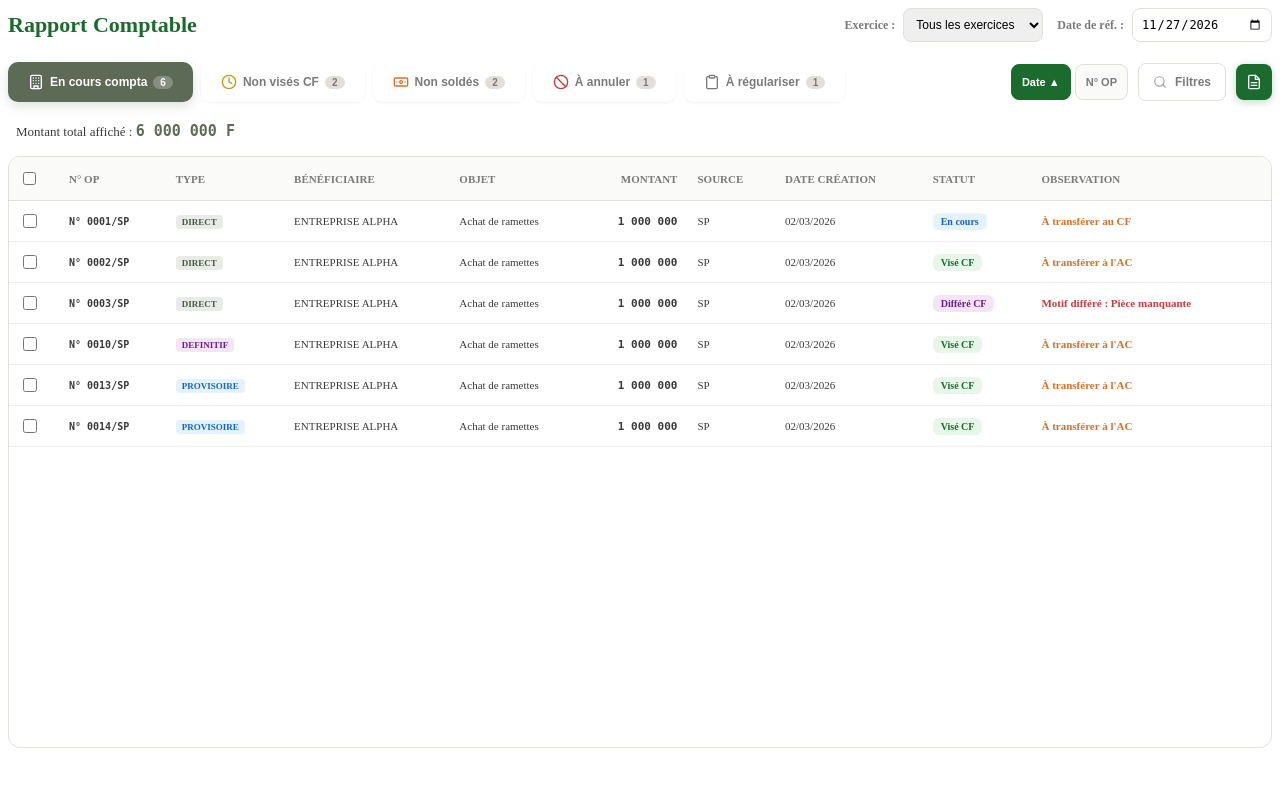
Test case: Rapport — Non soldés › le reste à payer est calculé d'après ce qui a déjà été versé
Step 1. Type "2026-03-23" into the date field → (1202, 25), box [1132,8,1272,42]
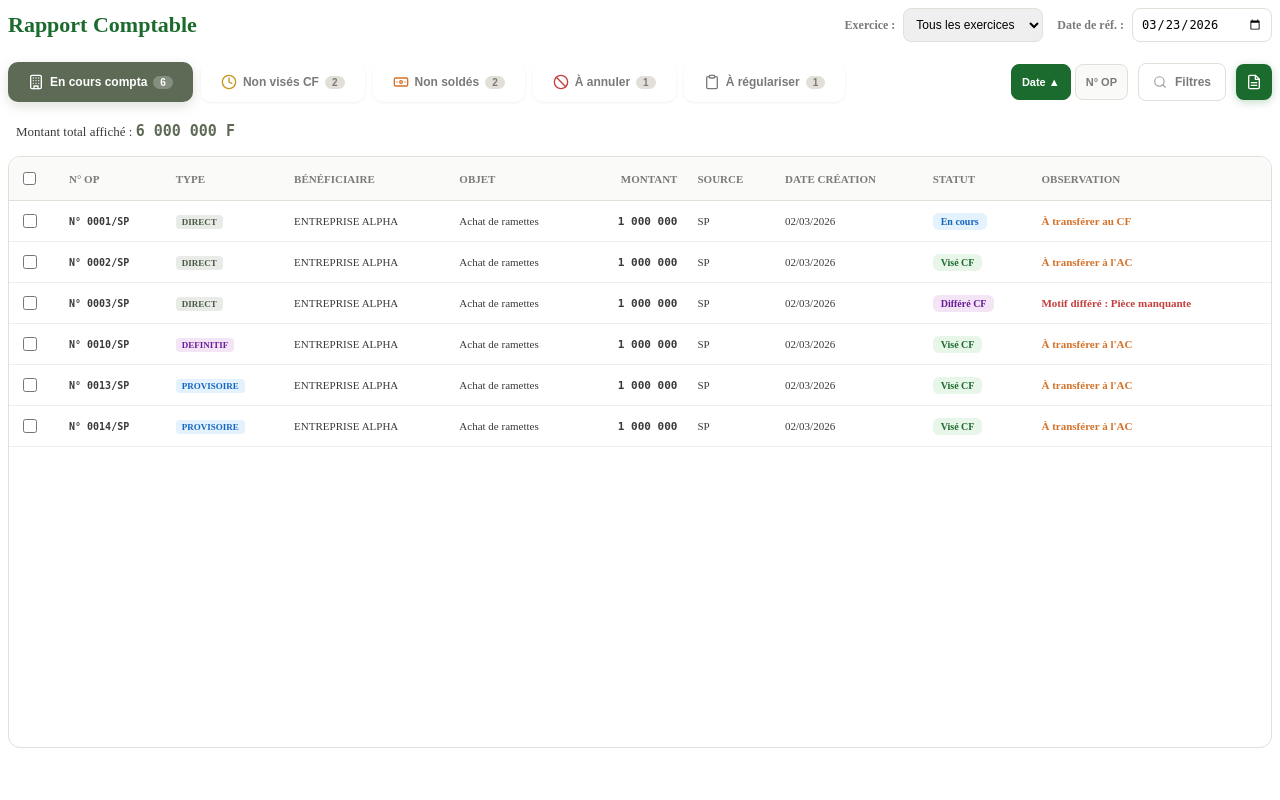
Step 2. Click the button "Non soldés 2" → (449, 82), box [372,62,525,102]
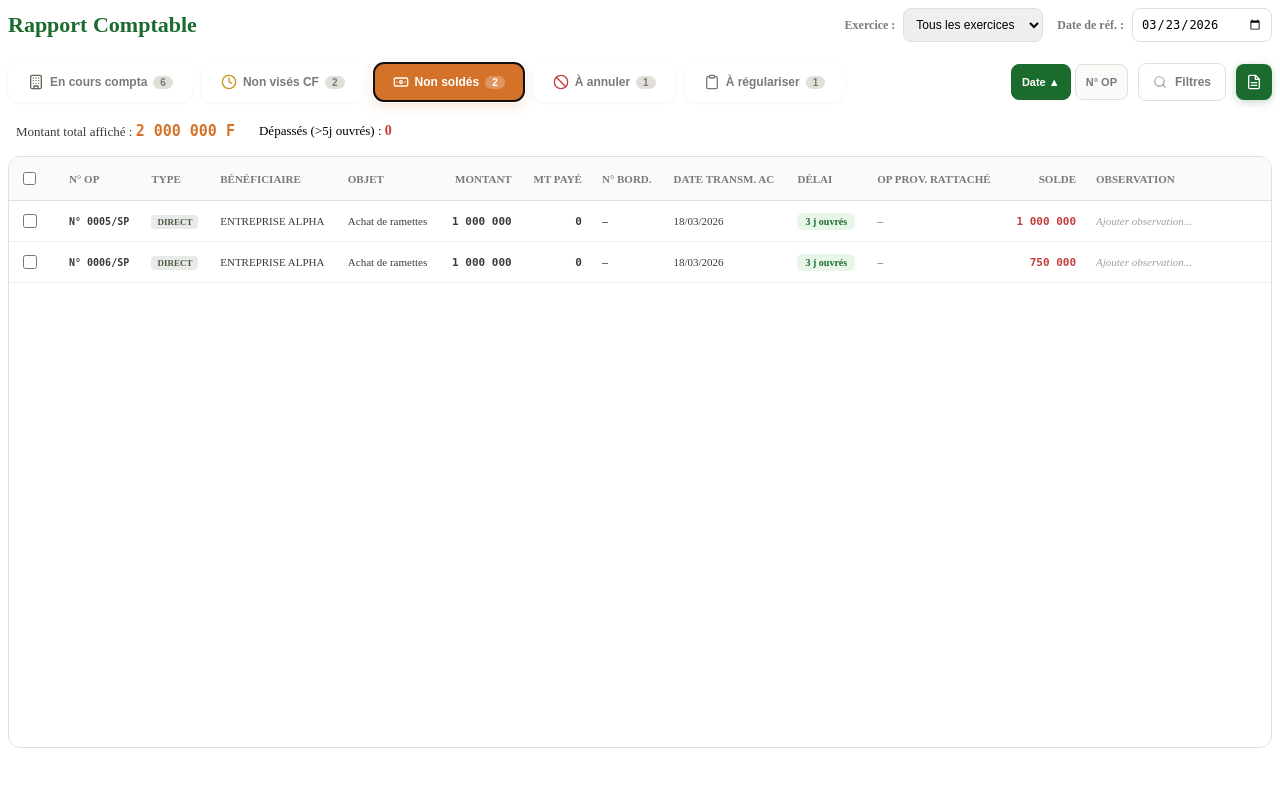
expect the text "750 000" is shown: met, box [1030,256,1076,268]
